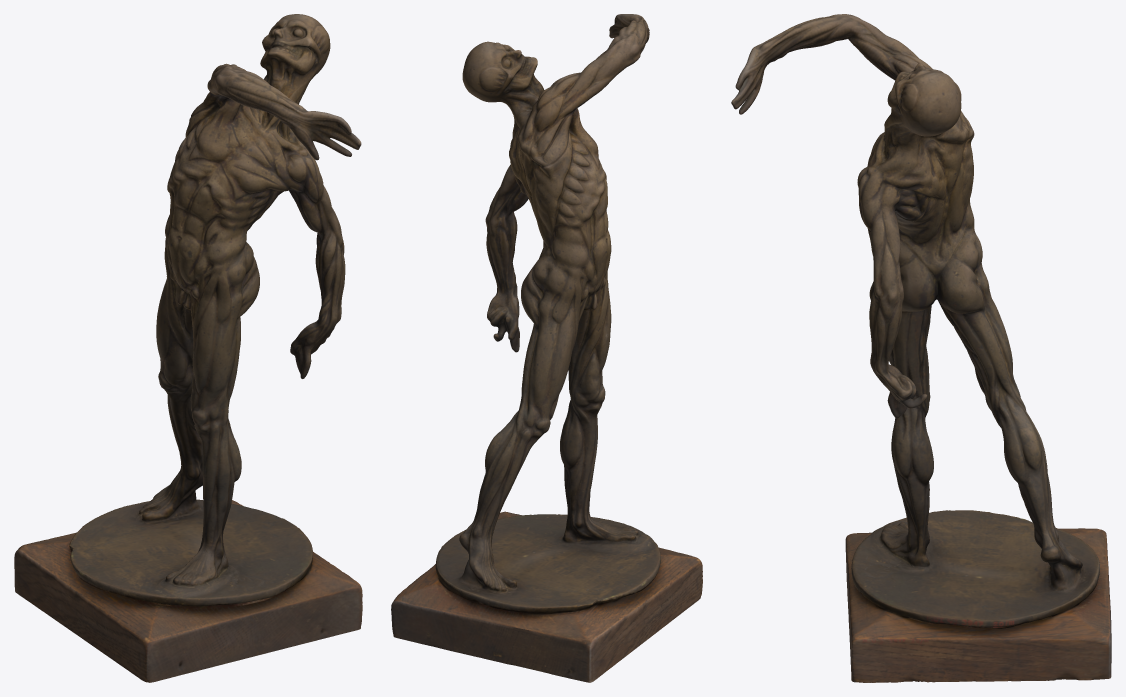
Rendered from anatomical_figure__ecorche.glb.
3 renders of one model, left to right at view 1: azimuth 30°, elevation 25°; view 2: azimuth 150°, elevation 25°; view 3: azimuth 270°, elevation 25°, orthographic. The views are drawn at different scales.
Visible parts, largest first — view 1: Object_3, Object_4, Object_2; view 2: Object_2, Object_3, Object_4; view 3: Object_2, Object_3, Object_4.
Part boxes in pixels (<box>): Object_3: <box>14,48,362,682</box>; Object_4: <box>19,14,362,671</box>; Object_2: <box>14,94,344,609</box>; Object_2: <box>391,26,654,682</box>; Object_3: <box>393,58,702,682</box>; Object_4: <box>407,14,700,675</box>; Object_2: <box>736,89,1111,682</box>; Object_3: <box>845,81,1111,682</box>; Object_4: <box>731,14,1110,681</box>.
Size of the model in its own units: 0.2553 by 0.6422 by 0.3681.
Materials: 1 (1 with a texture image).
